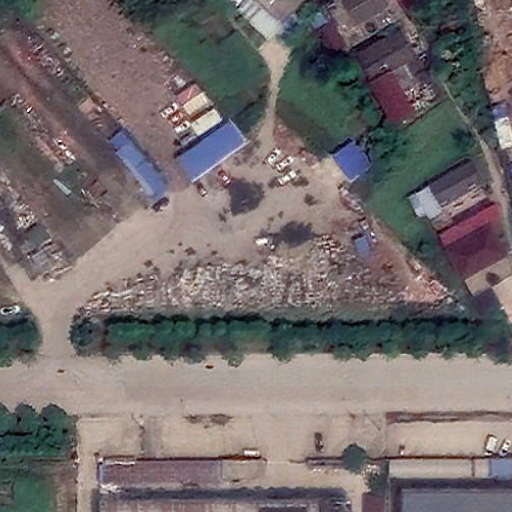msw: (92, 235, 447, 315)
